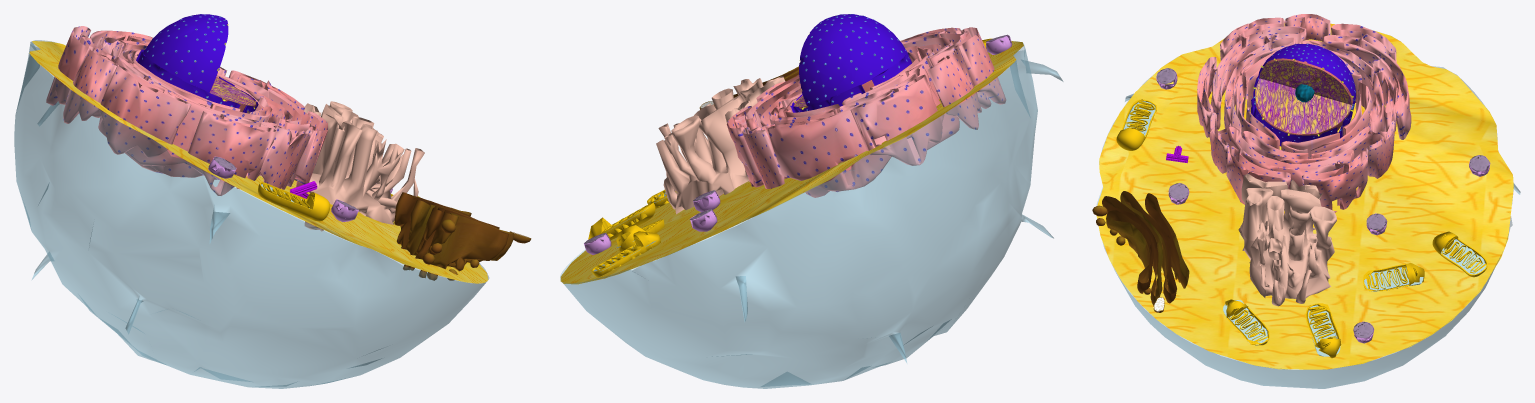
The model's file is modelo-ligero.glb.
3 renders of one model, left to right at view 1: azimuth 30°, elevation 25°; view 2: azimuth 150°, elevation 25°; view 3: azimuth 270°, elevation 25°, orthographic. The views are drawn at different scales.
Visible parts, largest first — view 1: Object_2, Object_7, Object_115, Object_21, Object_3, Object_127, Object_31, Object_129, Object_28; view 2: Object_2, Object_7, Object_3, Object_115, Object_127, Object_31, Object_129, Object_40, Object_134; view 3: Object_3, Object_7, Object_115, Object_2, Object_21, Object_28, Object_31, Object_29, Object_40, Object_127, Object_131, Object_129 (+1 smaller).
Part boxes in pixels (x1,y1,x2,y2): Object_2: [14, 40, 488, 388]; Object_7: [46, 26, 327, 195]; Object_115: [294, 101, 424, 231]; Object_21: [394, 192, 531, 280]; Object_3: [29, 41, 488, 283]; Object_127: [136, 14, 258, 112]; Object_31: [258, 182, 419, 221]; Object_129: [208, 156, 392, 221]; Object_28: [210, 78, 255, 105]; Object_2: [560, 43, 1063, 388]; Object_7: [726, 27, 1005, 197]; Object_3: [560, 41, 1023, 284]; Object_115: [656, 75, 785, 214]; Object_127: [790, 14, 911, 112]; Object_31: [588, 38, 992, 278]; Object_129: [584, 34, 1012, 254]; Object_40: [594, 39, 989, 270]; Object_134: [802, 14, 905, 103]; Object_3: [1096, 23, 1513, 369]; Object_7: [1197, 14, 1411, 212]; Object_115: [1238, 173, 1336, 306]; Object_2: [1097, 49, 1520, 388]; Object_21: [1092, 191, 1189, 312]; Object_28: [1255, 60, 1351, 133]; Object_31: [1116, 99, 1487, 358]; Object_29: [1123, 101, 1486, 356]; Object_40: [1126, 101, 1486, 342]; Object_127: [1251, 43, 1355, 146]; Object_131: [1156, 68, 1489, 338]; Object_129: [1156, 68, 1490, 343].
Size of what is drawn, in the model's own units: 8.07 by 6.9 by 9.13.
19 materials, 6 textured.
